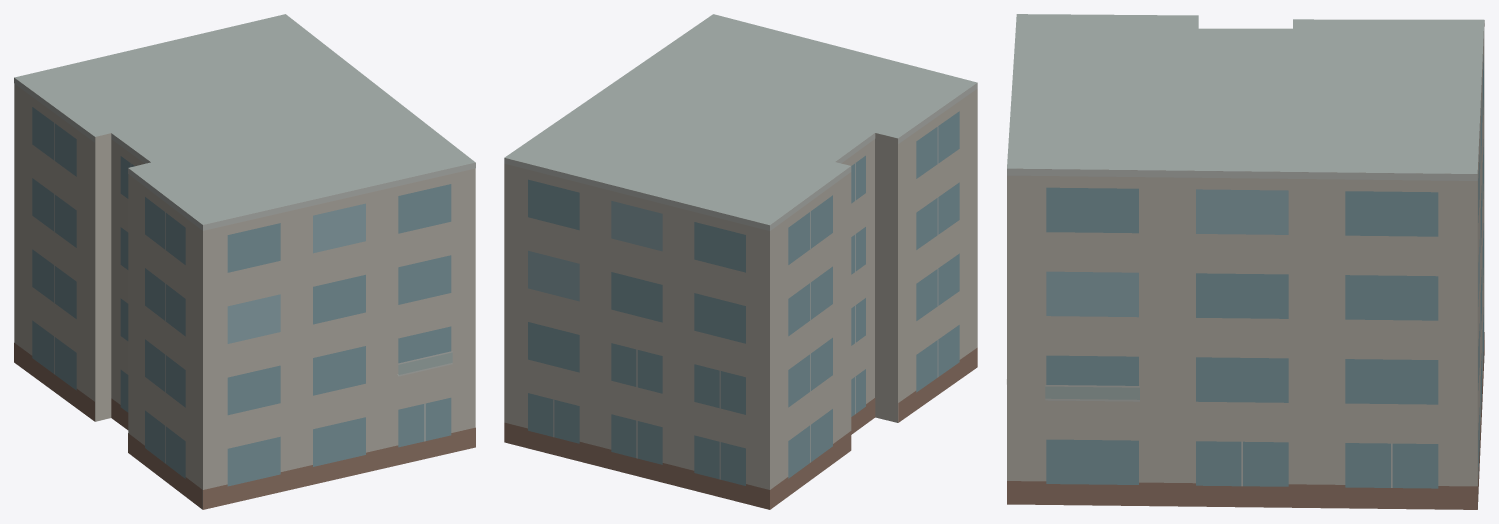
Rendered from survey-upis-32898912.glb.
The picture shows the model from 3 angles, left to right: view 1: azimuth 30°, elevation 25°; view 2: azimuth 150°, elevation 25°; view 3: azimuth 270°, elevation 25°; orthographic projection. The views are drawn at different scales.
Visible parts, largest first — view 1: survey-upis-32898912.tmp; view 2: survey-upis-32898912.tmp; view 3: survey-upis-32898912.tmp.
Part boxes in pixels (x1,y1,x2,y2): survey-upis-32898912.tmp: [14, 14, 475, 509]; survey-upis-32898912.tmp: [504, 14, 977, 509]; survey-upis-32898912.tmp: [1006, 14, 1484, 509].
Size of the model in its own units: 12.07 by 11.8 by 15.22.
